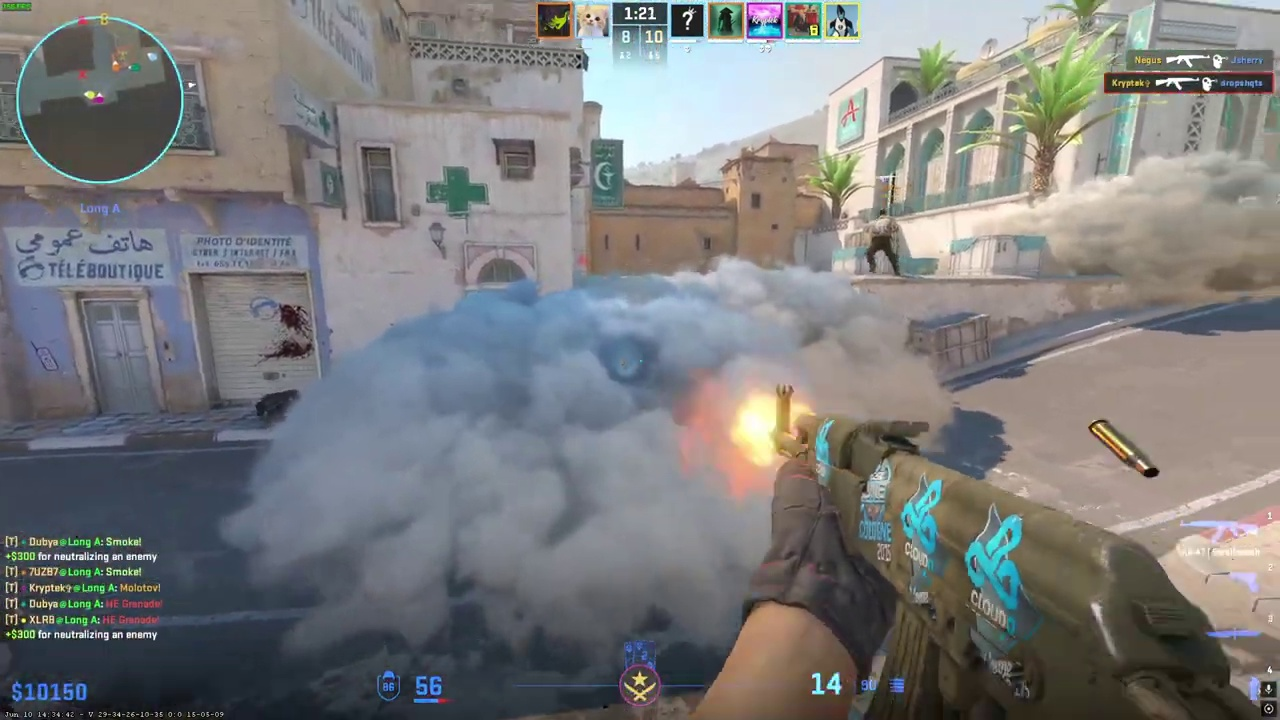Terrorist: (864, 209, 900, 275)
